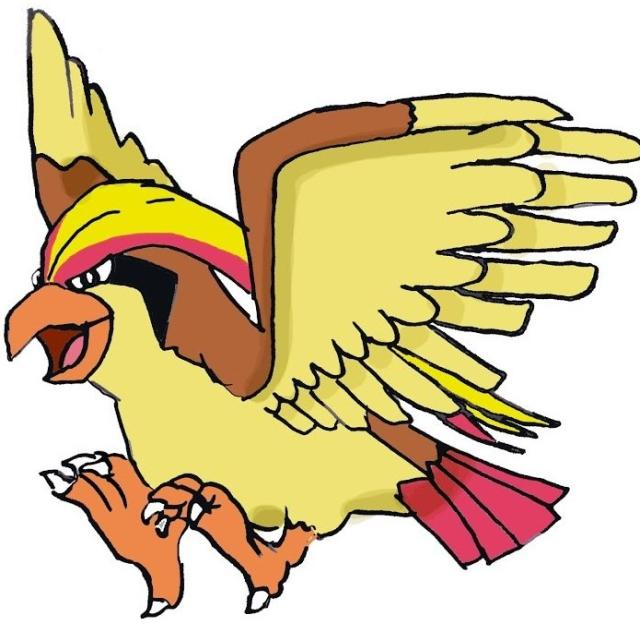Pidgeot: (11, 153, 568, 611)
